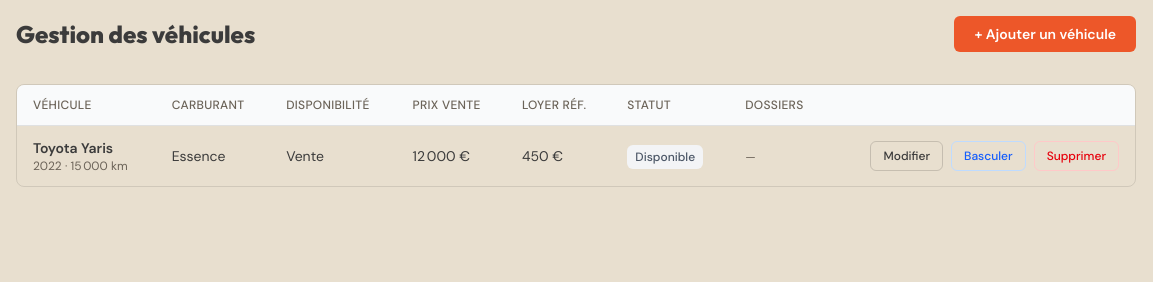
VehicleManagement › Toggle direct (sans modal prix) › affiche le toast de succès après bascule
The image size is (1153, 282).
Click the button "Basculer". click: (988, 156)
box: 951,141 -> 1026,171
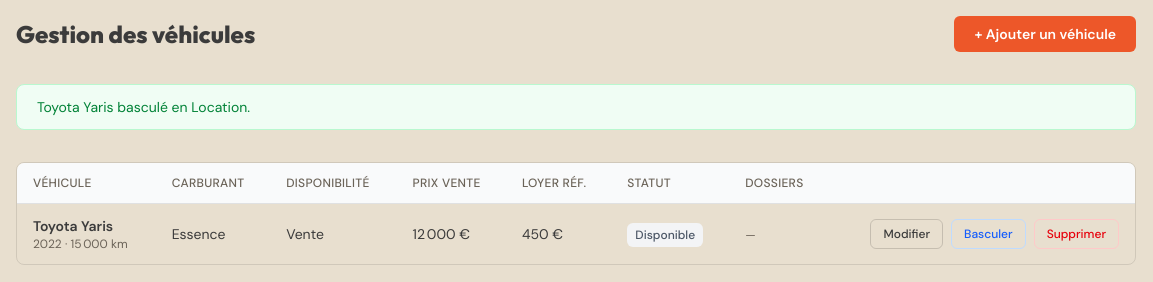
Now the message "Toyota Yaris basculé en Location." is shown, box 16,84 -> 1136,130
